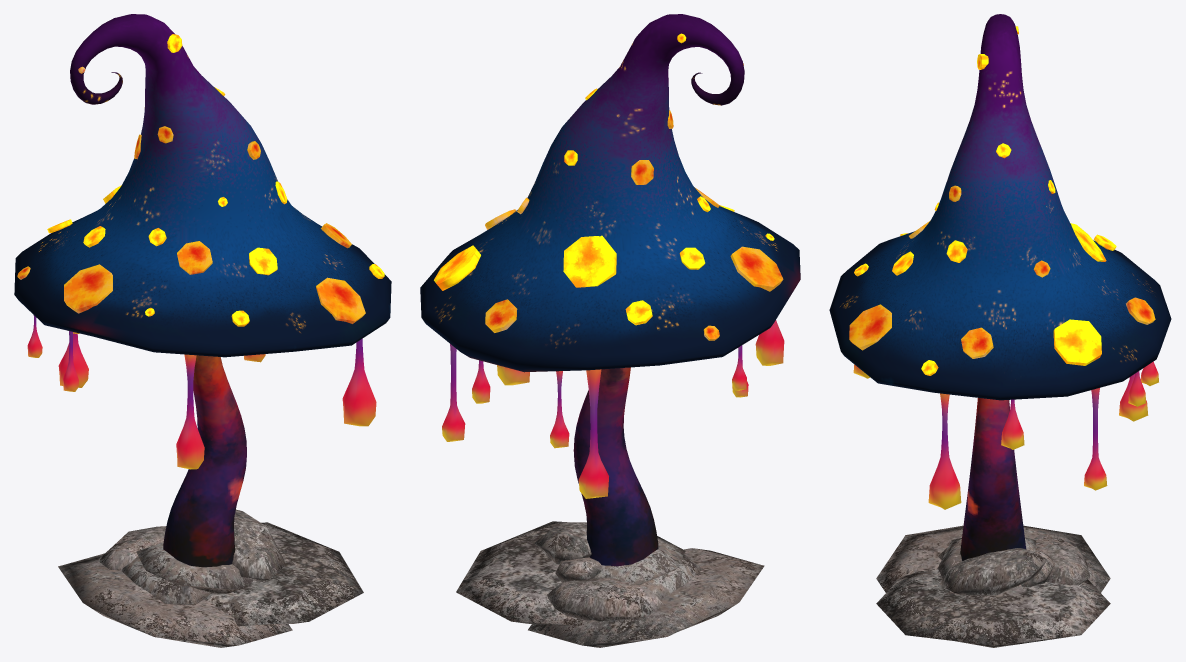
File: stylized_mushrooms.glb
The picture shows the model from 3 angles, left to right: view 1: azimuth 30°, elevation 25°; view 2: azimuth 150°, elevation 25°; view 3: azimuth 270°, elevation 25°; orthographic projection. The views are drawn at different scales.
Visible parts, largest first — view 1: Object_2, Object_7, Object_4, Object_6, Object_5; view 2: Object_2, Object_7, Object_6, Object_5, Object_4; view 3: Object_2, Object_7, Object_6, Object_5, Object_4.
Boxes of the visible parts, x1,y1,x2,y2 form: Object_2: [14, 14, 391, 567]; Object_7: [58, 509, 363, 647]; Object_4: [17, 66, 365, 323]; Object_6: [27, 315, 376, 469]; Object_5: [47, 34, 384, 326]; Object_2: [420, 14, 800, 566]; Object_7: [456, 521, 764, 647]; Object_6: [442, 320, 784, 498]; Object_5: [434, 33, 774, 325]; Object_4: [485, 63, 783, 340]; Object_2: [829, 14, 1171, 560]; Object_7: [876, 525, 1110, 647]; Object_6: [853, 361, 1158, 509]; Object_5: [854, 26, 1116, 375]; Object_4: [849, 185, 1155, 358].
Bounding box in the file's own units: 6.78 × 12.32 × 6.78.
Materials: 6 (5 with a texture image).
